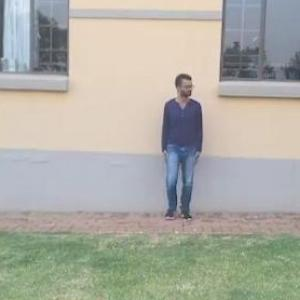follow: (161, 71, 204, 220)
